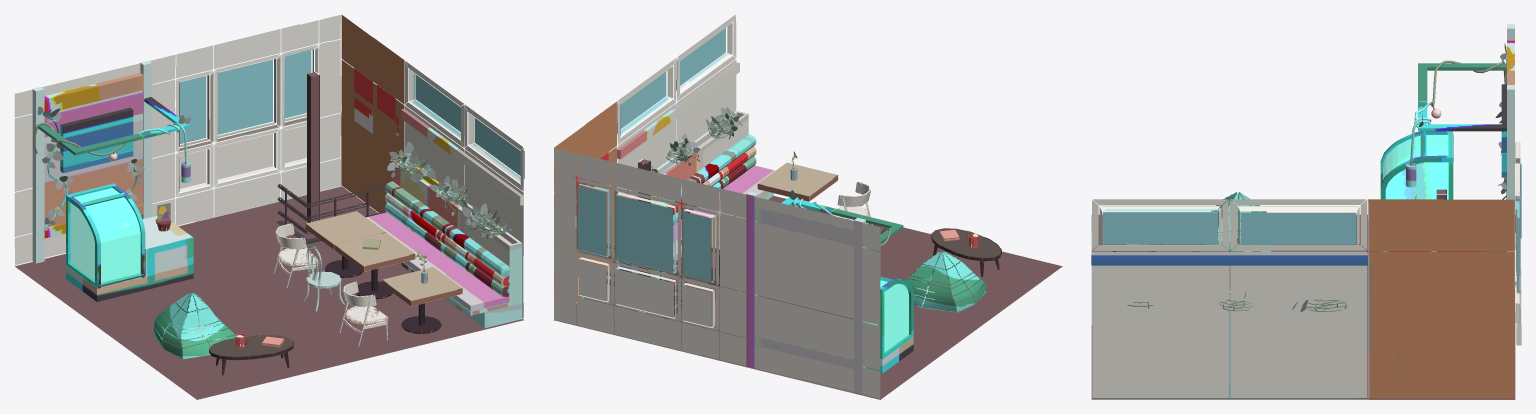
The picture shows the model from 3 angles, left to right: view 1: azimuth 30°, elevation 25°; view 2: azimuth 150°, elevation 25°; view 3: azimuth 270°, elevation 25°; orthographic projection. The views are drawn at different scales.
Visible parts, largest first — view 1: 2f wall, 2f sofa, 2f ground, 2f love; view 2: 2f wall, 2f sofa, 2f ground, 2f love; view 3: 2f wall, 2f sofa, 2f ground, 2f love.
Boxes of the visible parts, <box> form: 2f wall: <box>14,15,524,319</box>; 2f sofa: <box>32,60,523,327</box>; 2f ground: <box>15,186,523,399</box>; 2f love: <box>153,71,462,375</box>; 2f wall: <box>554,14,880,399</box>; 2f sofa: <box>575,62,913,394</box>; 2f ground: <box>553,196,1062,399</box>; 2f love: <box>606,151,1001,319</box>; 2f wall: <box>1091,141,1521,399</box>; 2f sofa: <box>1091,24,1514,398</box>; 2f ground: <box>1091,214,1515,399</box>; 2f love: <box>1111,189,1446,368</box>.
Size of the model in its own units: 456 by 230 by 440.
